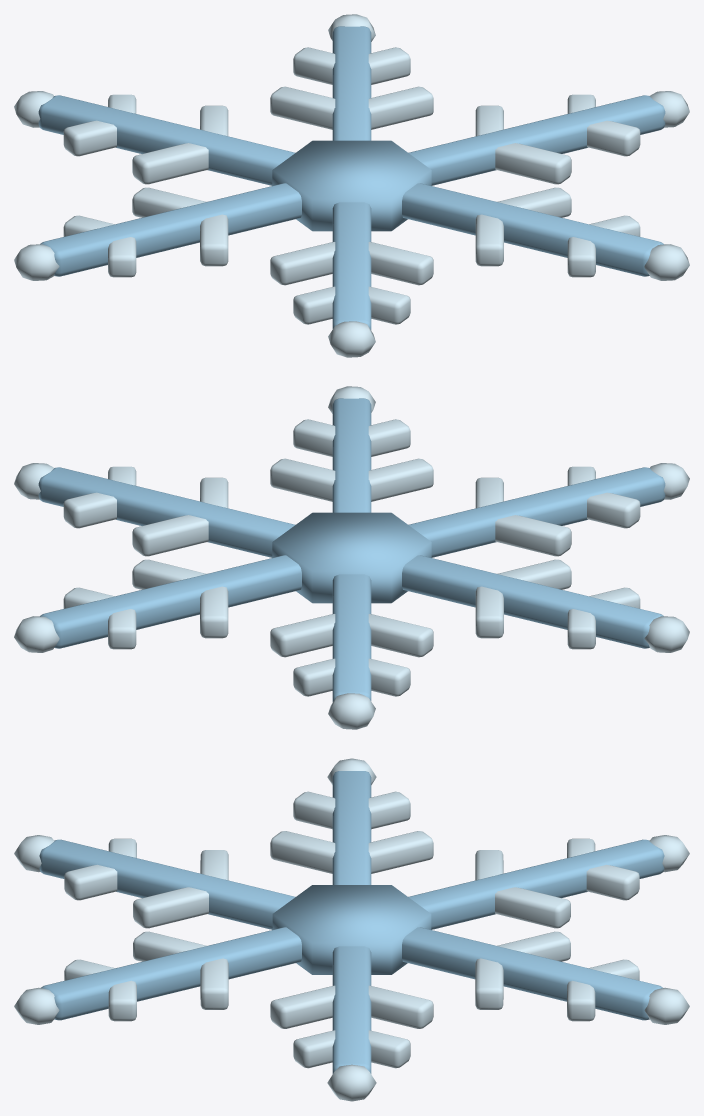
Rendered from event-snow-crystal.glb.
The picture shows the model from 3 angles, top to bottom: view 1: azimuth 30°, elevation 25°; view 2: azimuth 150°, elevation 25°; view 3: azimuth 270°, elevation 25°; orthographic projection.
Visible parts, largest first — view 1: crystal; view 2: crystal; view 3: crystal.
Part boxes in pixels (<box>): crystal: <box>14,14,689,357</box>; crystal: <box>14,386,689,729</box>; crystal: <box>14,758,689,1101</box>.
Bounding box in the file's own units: 0.438 × 0.02 × 0.3831.
